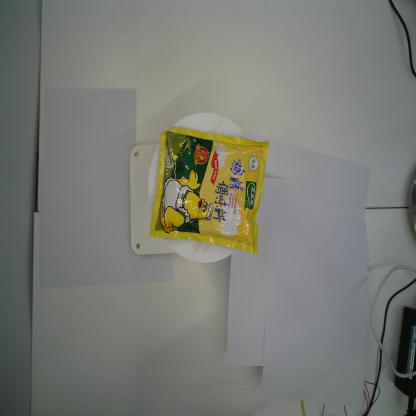Seasoner: (148, 124, 270, 255)
